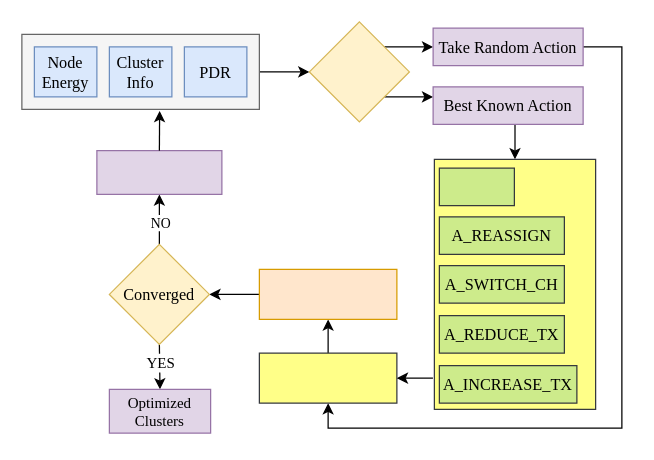
Image size: 654x460. Some labels were removed from this diagram. Here are the shapes that lost their labels. From the top down, the centre of each, then its label:
At pixel 358 71: "Choose Action".
At pixel 159 171: "Round ++".
At pixel 476 186: "A_NOOP".
At pixel 327 293: "Update Q-Table".
At pixel 327 377: "Receive Reward".
